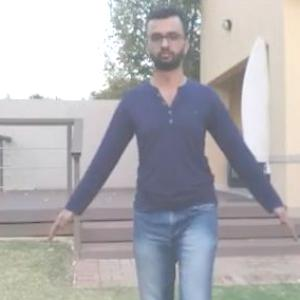land: (65, 40, 297, 299)
